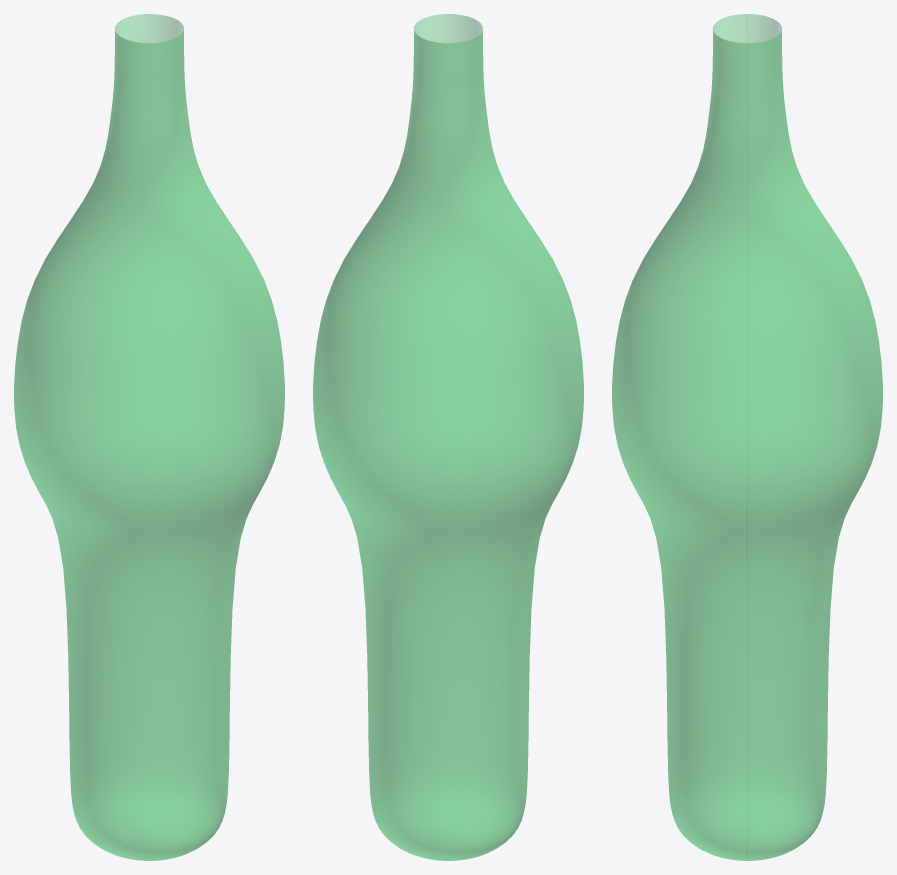
The model's file is botella_plastica.glb.
The picture shows the model from 3 angles, left to right: view 1: azimuth 30°, elevation 25°; view 2: azimuth 150°, elevation 25°; view 3: azimuth 270°, elevation 25°; orthographic projection.
Parts seen in each view (by area): view 1: BOTELLA_PET; view 2: BOTELLA_PET; view 3: BOTELLA_PET.
Boxes of the visible parts, bbox=[...] form: BOTELLA_PET: bbox=[14, 14, 284, 860]; BOTELLA_PET: bbox=[313, 14, 583, 860]; BOTELLA_PET: bbox=[612, 14, 882, 860].
Bounding box in the file's own units: 0.1409 × 0.47 × 0.1409.
